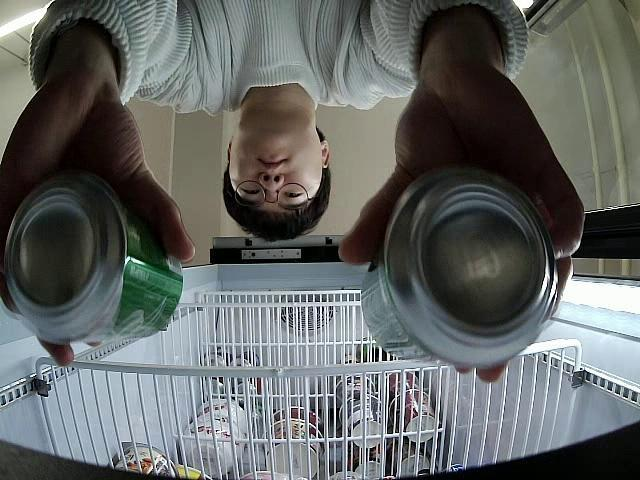12_chilsungCider: (361, 171, 558, 368), (4, 172, 183, 340)
